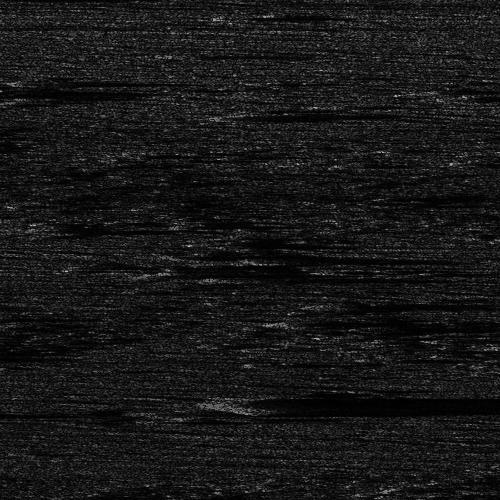object: (165, 249, 352, 264), (189, 395, 262, 410), (151, 275, 256, 284), (195, 108, 278, 119), (21, 222, 94, 233), (167, 237, 240, 248), (302, 297, 355, 310), (249, 316, 322, 325), (10, 77, 73, 86), (411, 336, 474, 341), (189, 12, 252, 17), (471, 355, 500, 362), (481, 342, 500, 351)
shadow: (225, 395, 500, 410), (259, 249, 415, 264), (329, 297, 487, 310), (237, 108, 421, 119), (286, 316, 500, 325), (58, 222, 230, 233), (204, 275, 391, 284), (41, 77, 209, 86), (204, 237, 315, 248), (0, 408, 136, 415), (0, 353, 85, 360), (221, 12, 329, 17), (0, 91, 97, 96), (442, 336, 500, 341), (0, 408, 59, 411), (183, 52, 291, 53)
